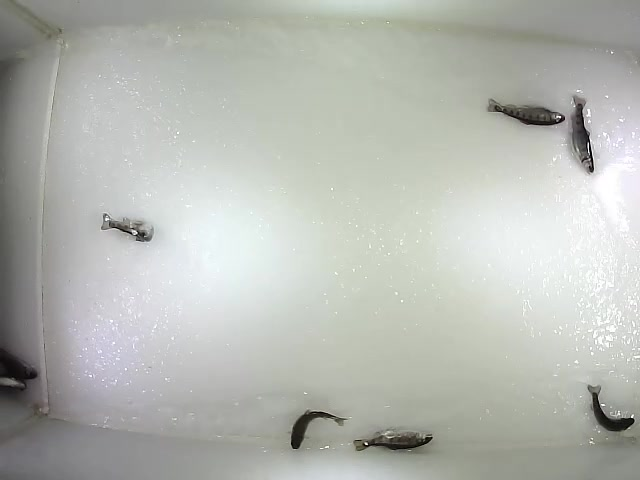fish: (290, 408, 350, 451), (486, 96, 567, 127), (586, 383, 636, 433), (569, 94, 596, 176), (353, 428, 434, 452), (100, 211, 155, 244)
